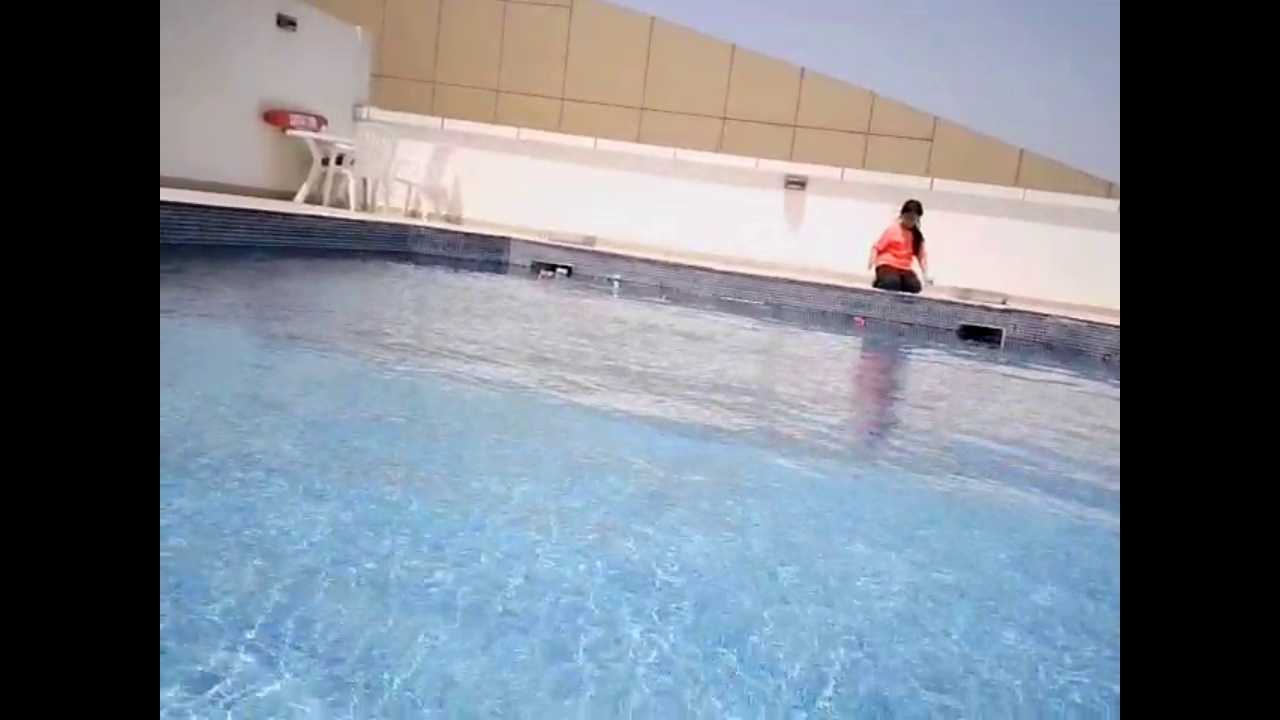debris: (605, 271, 625, 290), (534, 266, 556, 283), (852, 312, 868, 331), (894, 318, 908, 336), (554, 263, 570, 278), (660, 292, 673, 304)
